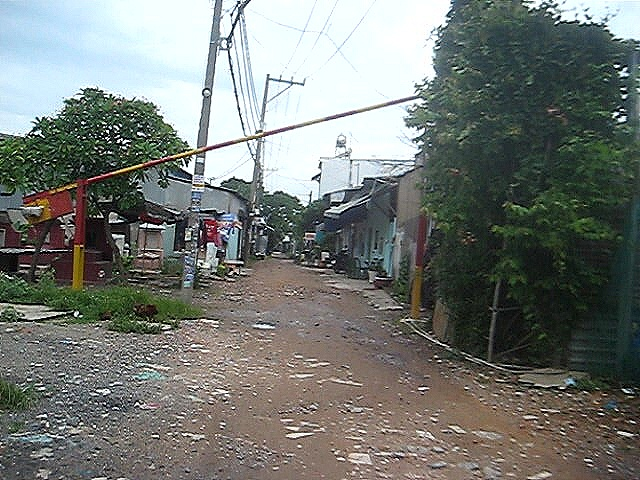hole: (343, 324, 409, 362), (171, 313, 225, 327), (250, 319, 279, 332)
